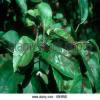Apple Scab Leaf: (42, 40, 82, 79), (14, 32, 36, 71), (80, 48, 99, 93), (52, 23, 78, 49)
